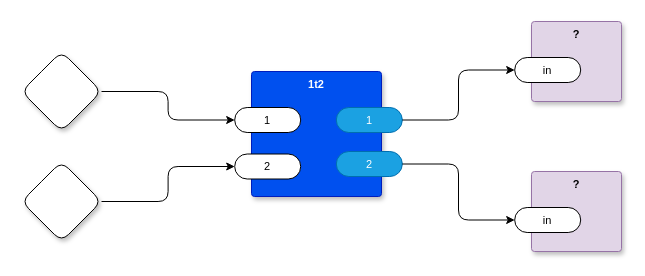
The diagram is 645 pixels wide and 276 high, and some of its shapes have lost their labels. The centre of each missing label's shape, as x and y in pixels:
input1: point (62, 92)
input2: point (62, 202)
